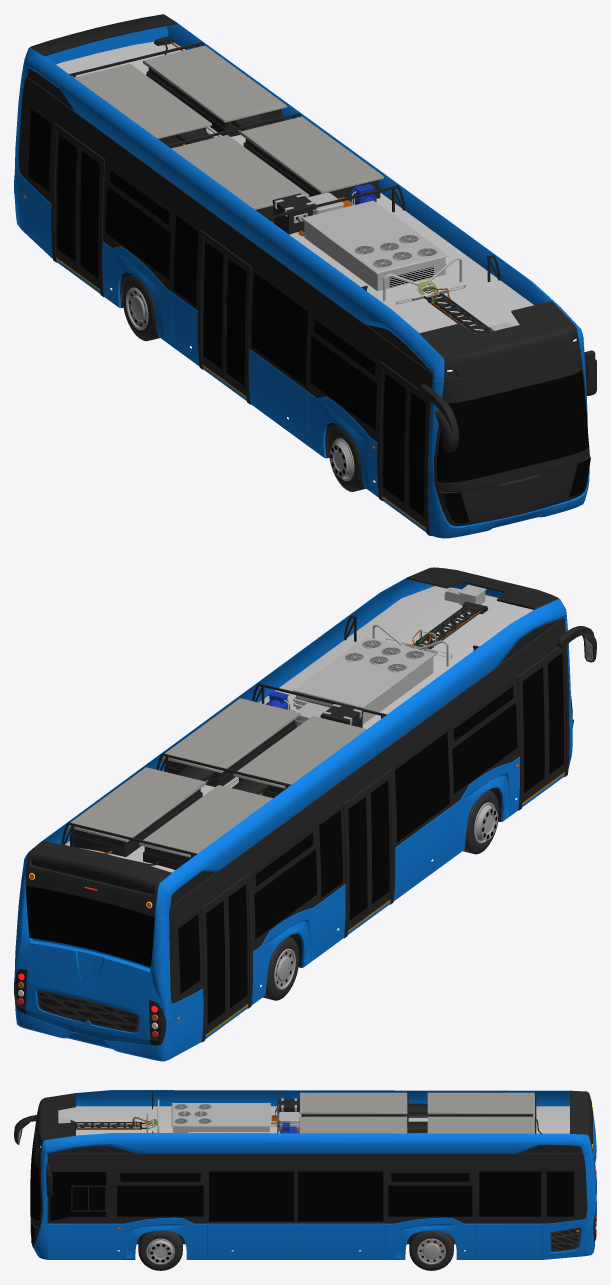
Rendered from ElectroBus_v1_mp.fbx.
The picture shows the model from 3 angles, top to bottom: view 1: azimuth 30°, elevation 25°; view 2: azimuth 150°, elevation 25°; view 3: azimuth 270°, elevation 25°; orthographic projection. The views are drawn at different scales.
Visible parts, largest first — view 1: Electrobus; view 2: Electrobus; view 3: Electrobus.
Boxes of the visible parts, x1,y1,x2,y2 form: Electrobus: (14,14,596,538); Electrobus: (14,567,596,1061); Electrobus: (14,1090,596,1270).
Bounding box in the file's own units: 2.92 × 3.3 × 12.8.
2 materials, 1 textured.
